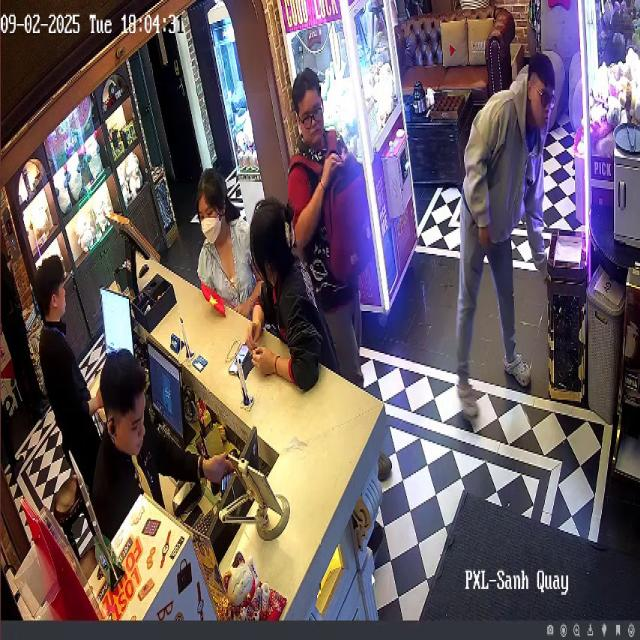khach: (450, 42, 560, 423), (287, 47, 375, 381), (240, 186, 364, 413), (190, 132, 266, 349)
nhan vien: (88, 345, 241, 542), (34, 252, 117, 486), (0, 216, 55, 401)
